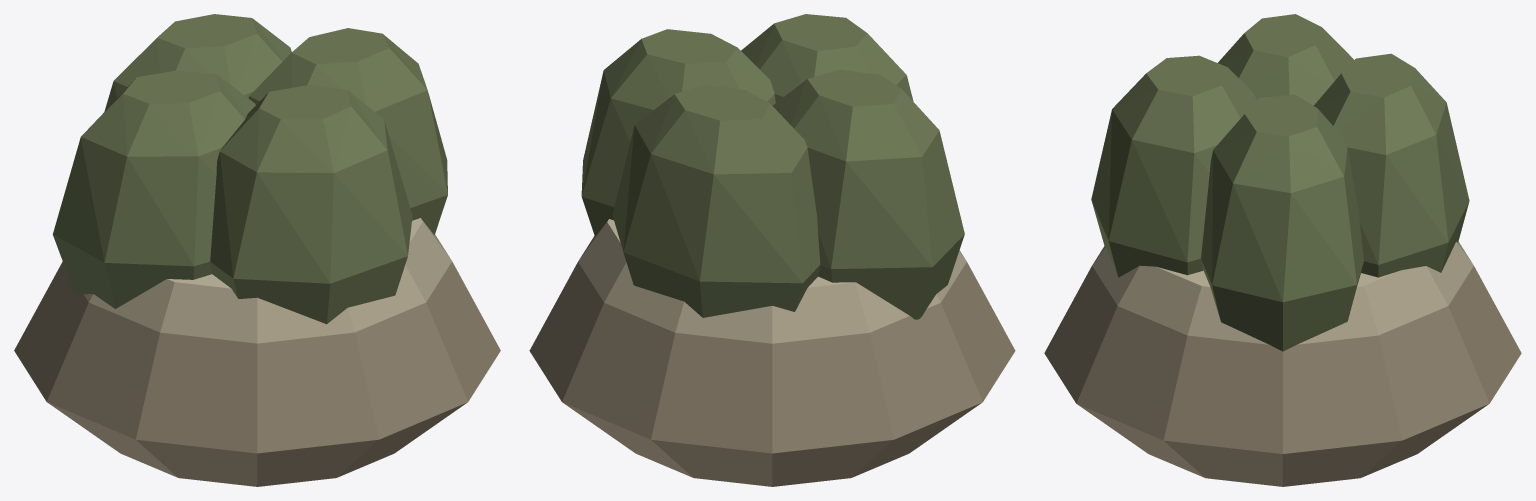
File: planter-round.glb
3 renders of one model, left to right at view 1: azimuth 30°, elevation 25°; view 2: azimuth 150°, elevation 25°; view 3: azimuth 270°, elevation 25°, orthographic.
Parts seen in each view (by area): view 1: planter-round__body; view 2: planter-round__body; view 3: planter-round__body.
Boxes of the visible parts, x1,y1,x2,y2 form: planter-round__body: [14, 14, 500, 486]; planter-round__body: [529, 14, 1015, 486]; planter-round__body: [1044, 14, 1521, 486].
Bounding box in the file's own units: 1 × 0.8 × 1.
